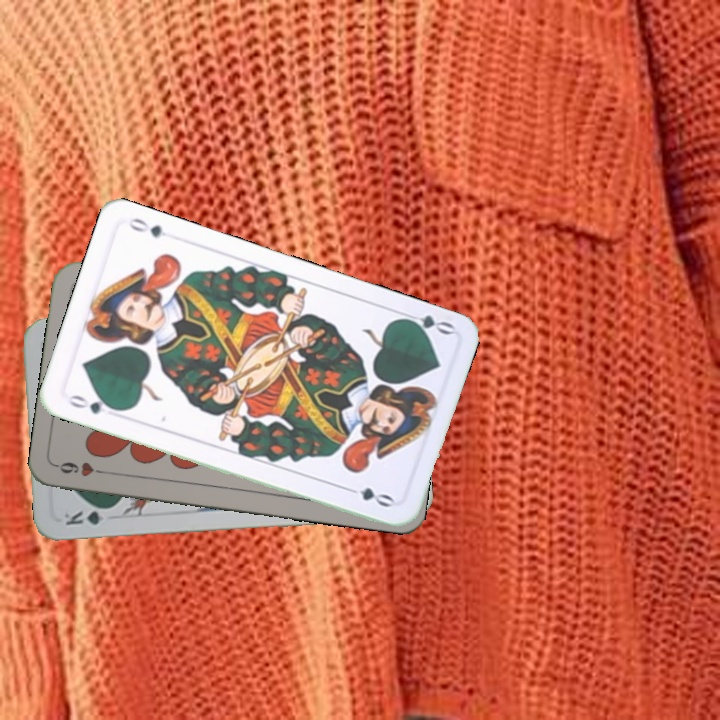GK: (60, 504, 117, 528)
GO: (396, 307, 456, 339), (65, 390, 121, 417)
H9: (53, 458, 112, 479)
